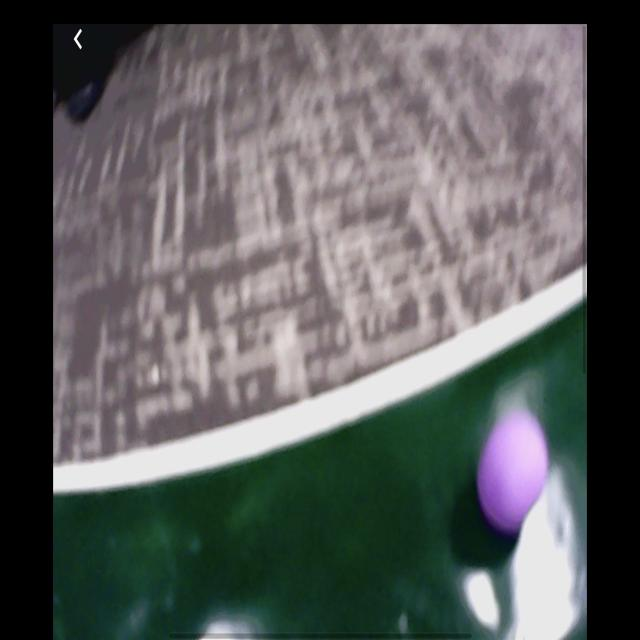ball: (476, 408, 550, 538)
